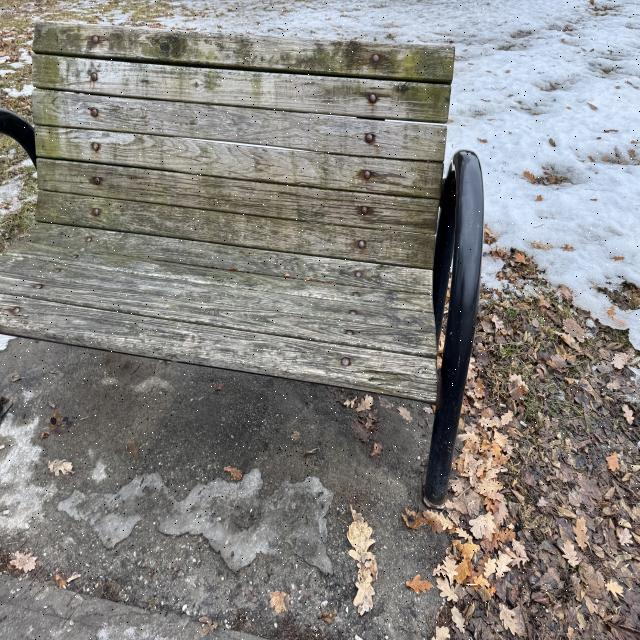Bench: (279, 31, 489, 494), (2, 29, 274, 358)
